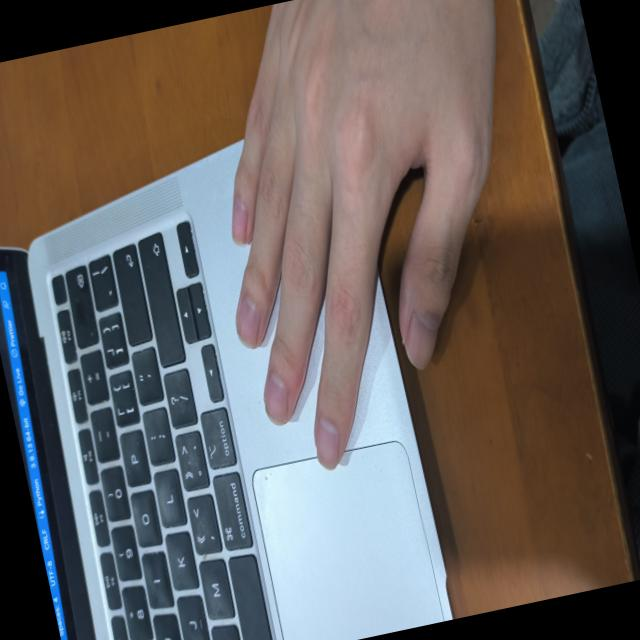Nail: (405, 311, 438, 367), (315, 416, 338, 469), (264, 371, 287, 424), (236, 296, 259, 347), (232, 197, 247, 244)
